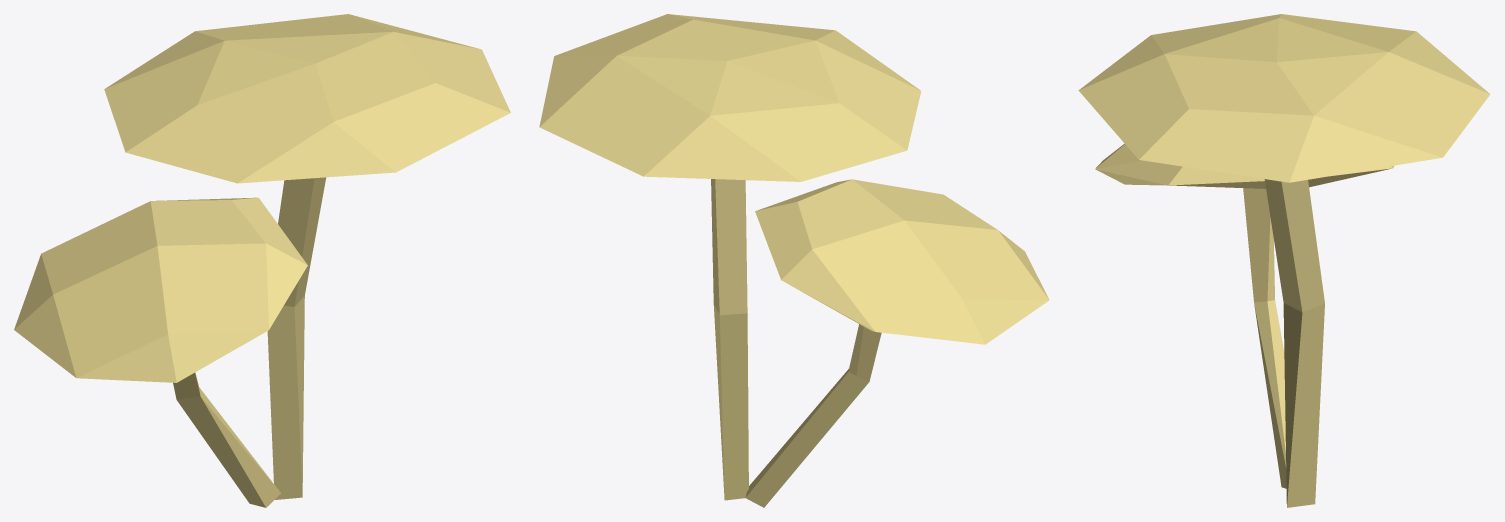
Rendered from Mushroom_h_04.fbx.
3 views of the same model, side by side, from view 1: azimuth 30°, elevation 25°; view 2: azimuth 150°, elevation 25°; view 3: azimuth 270°, elevation 25° (orthographic). The views are drawn at different scales.
Parts seen in each view (by area): view 1: Mushroom_h_04; view 2: Mushroom_h_04; view 3: Mushroom_h_04.
Part boxes in pixels (x1,y1,x2,y2): Mushroom_h_04: [14, 14, 510, 507]; Mushroom_h_04: [539, 14, 1049, 507]; Mushroom_h_04: [1078, 14, 1490, 507].
Bounding box in the file's own units: 26.8 × 24.47 × 20.23.
